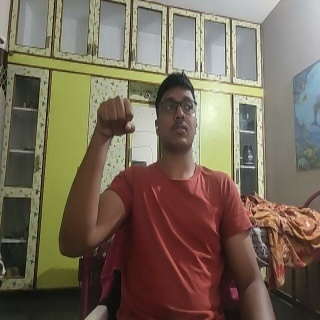Face: (155, 72, 200, 158)
Yes: (92, 94, 139, 148)
